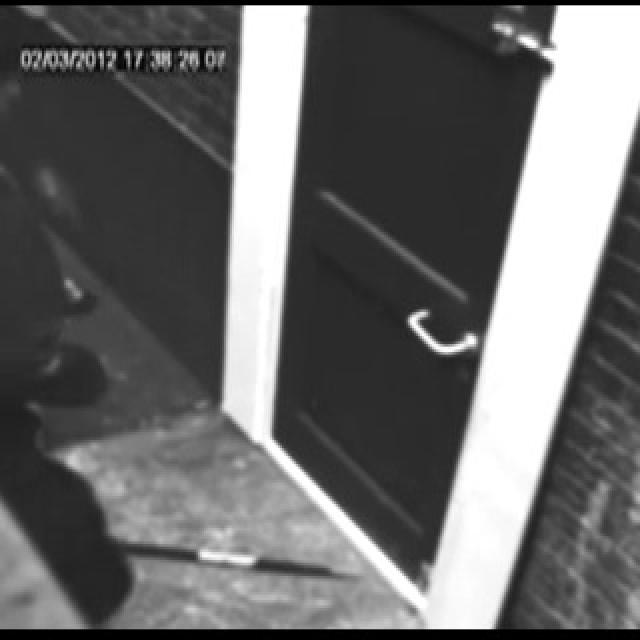thief: (0, 123, 98, 423)
